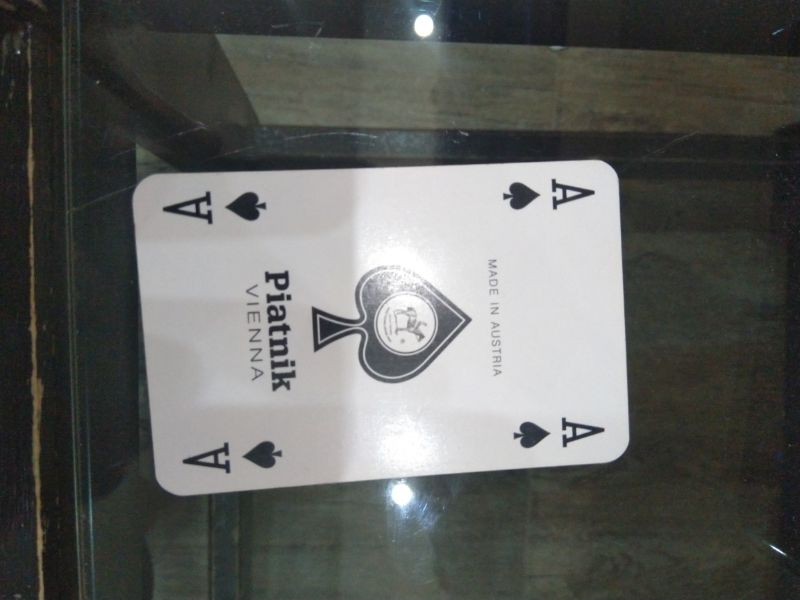As: (161, 180, 273, 229), (499, 172, 601, 216), (180, 437, 289, 477), (507, 411, 610, 453)
